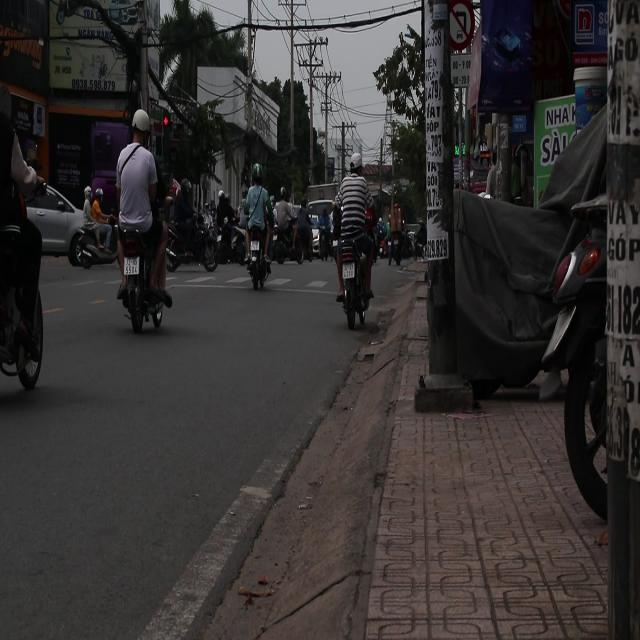car: (25, 185, 83, 258)
motorbike: (112, 216, 172, 335), (328, 209, 382, 330), (70, 206, 120, 270), (166, 216, 220, 273), (248, 206, 278, 292), (275, 211, 307, 280)
